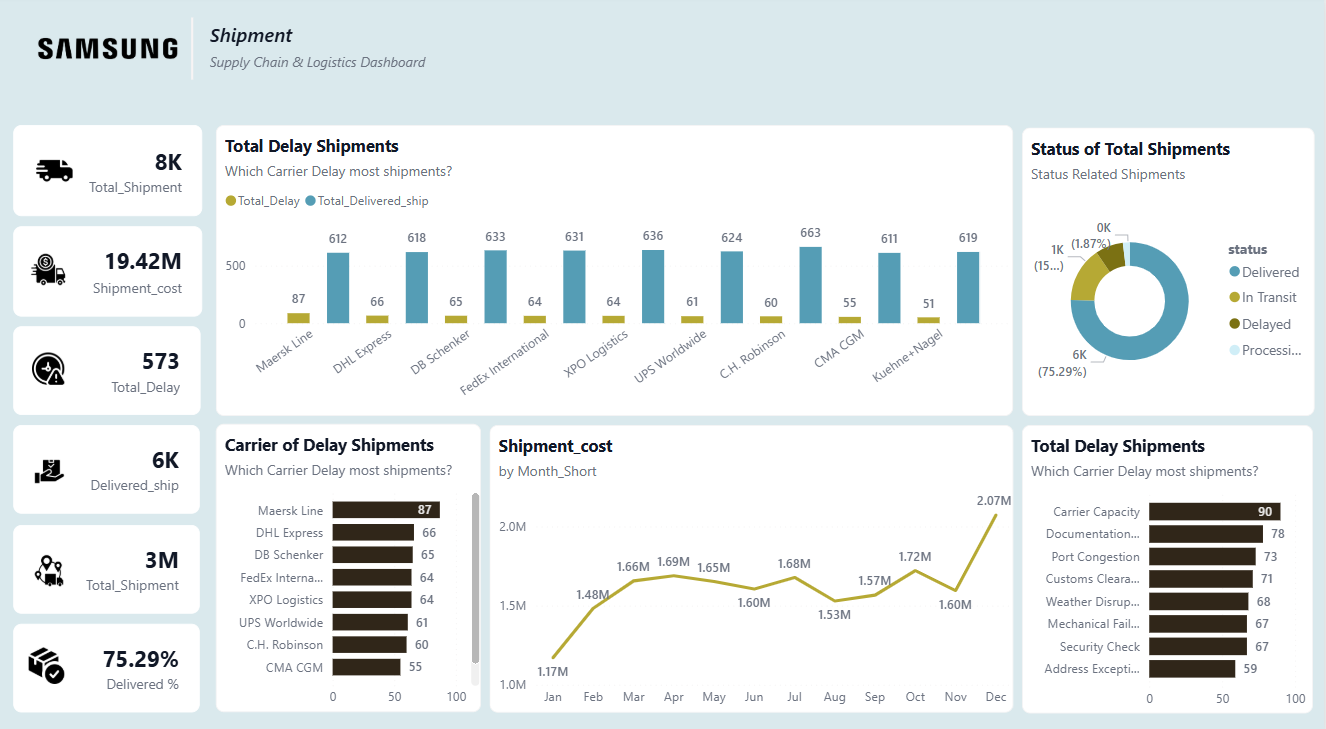

What the dashboard file says about the page in this screenshot:
{"tool":"powerbi","page":{"name":"Shipment","canvas":[1280,720],"ordinal":4},"visuals":[{"type":"textbox","title":"Shipment","box":[200.3,25.7,225,48.9],"z":0},{"type":"shape","box":[173.4,22,29.3,59.9],"z":1000},{"type":"image","box":[29,24.1,149.6,54.3],"z":2000},{"type":"cardVisual","fields":{"Data":["MeasuresTable.Shipment_cost"]},"box":[15.5,223,182.2,86.9],"z":3000},{"type":"cardVisual","fields":{"Data":["MeasuresTable.Total_Shipment_Quantity"]},"box":[15.5,511.3,179.8,85.7],"z":4000},{"type":"cardVisual","fields":{"Data":["MeasuresTable.Total_Delay"]},"box":[15.5,319.5,181,85.7],"z":5000},{"type":"cardVisual","fields":{"Data":["MeasuresTable.Total_Delivered_ship"]},"box":[15.5,414.8,179.8,85.7],"z":6000},{"type":"cardVisual","fields":{"Data":["MeasuresTable.Delivered %"]},"box":[15.5,606.6,179.8,85.7],"z":7000},{"type":"cardVisual","fields":{"Data":["MeasuresTable.Total_Shipment"]},"box":[15.5,125.3,182.2,88.1],"z":8000},{"type":"clusteredBarChart","title":"Carrier of Delay Shipments","fields":{"Category":["fact_shipment.carrier"],"Y":["MeasuresTable.Total_Delay"]},"box":[211.1,413.8,255.8,278.7],"z":9000},{"type":"image","box":[31.4,152,48.3,35],"z":10000},{"type":"image","box":[31.4,247.1,36.2,35],"z":11000},{"type":"image","box":[33.8,342.6,31.4,36.2],"z":12000},{"type":"image","box":[29,629.6,37.4,35],"z":13000},{"type":"clusteredColumnChart","title":"Total Delay Shipments","fields":{"Category":["fact_shipment.carrier"],"Y":["MeasuresTable.Total_Delay","MeasuresTable.Total_Delivered_ship"]},"box":[211.1,125.5,769.7,281.1],"z":14000},{"type":"lineChart","fields":{"Y":["MeasuresTable.Shipment_cost"],"Category":["dim_date.Month_Short"]},"box":[475.3,415,505.5,277.5],"z":15000},{"type":"clusteredBarChart","title":"Total Delay Shipments","fields":{"Category":["fact_shipment.delay_reason"],"Y":["MeasuresTable.Total_Delay"]},"box":[989.3,415,281.1,278.7],"z":16000},{"type":"donutChart","title":"Status of Total Shipments","fields":{"Category":["fact_shipment.status"],"Y":["MeasuresTable.Total_Shipment"]},"box":[989.3,127.9,282.3,278.7],"z":17000},{"type":"image","box":[33.8,439.1,33.8,41],"z":18000},{"type":"image","box":[31.4,538.1,37.4,35],"z":19000}]}

Visuals, with their boxes in screenshot pixels (x1, y1, x2, y2), scaled from the page's 1280x720 canvas onto the 1326x729 screenshot:
"Shipment" textbox: Rect(207, 26, 441, 76)
shape: Rect(180, 22, 210, 83)
image: Rect(30, 24, 185, 79)
cardVisual - MeasuresTable.Shipment_cost: Rect(16, 226, 205, 314)
cardVisual - MeasuresTable.Total_Shipment_Quantity: Rect(16, 518, 202, 604)
cardVisual - MeasuresTable.Total_Delay: Rect(16, 323, 204, 410)
cardVisual - MeasuresTable.Total_Delivered_ship: Rect(16, 420, 202, 507)
cardVisual - MeasuresTable.Delivered %: Rect(16, 614, 202, 701)
cardVisual - MeasuresTable.Total_Shipment: Rect(16, 127, 205, 216)
"Carrier of Delay Shipments" clusteredBarChart: Rect(219, 419, 484, 701)
image: Rect(33, 154, 83, 189)
image: Rect(33, 250, 70, 286)
image: Rect(35, 347, 68, 384)
image: Rect(30, 637, 69, 673)
"Total Delay Shipments" clusteredColumnChart: Rect(219, 127, 1016, 412)
lineChart - MeasuresTable.Shipment_cost x dim_date.Month_Short: Rect(492, 420, 1016, 701)
"Total Delay Shipments" clusteredBarChart: Rect(1025, 420, 1316, 702)
"Status of Total Shipments" donutChart: Rect(1025, 129, 1317, 412)
image: Rect(35, 445, 70, 486)
image: Rect(33, 545, 71, 580)
